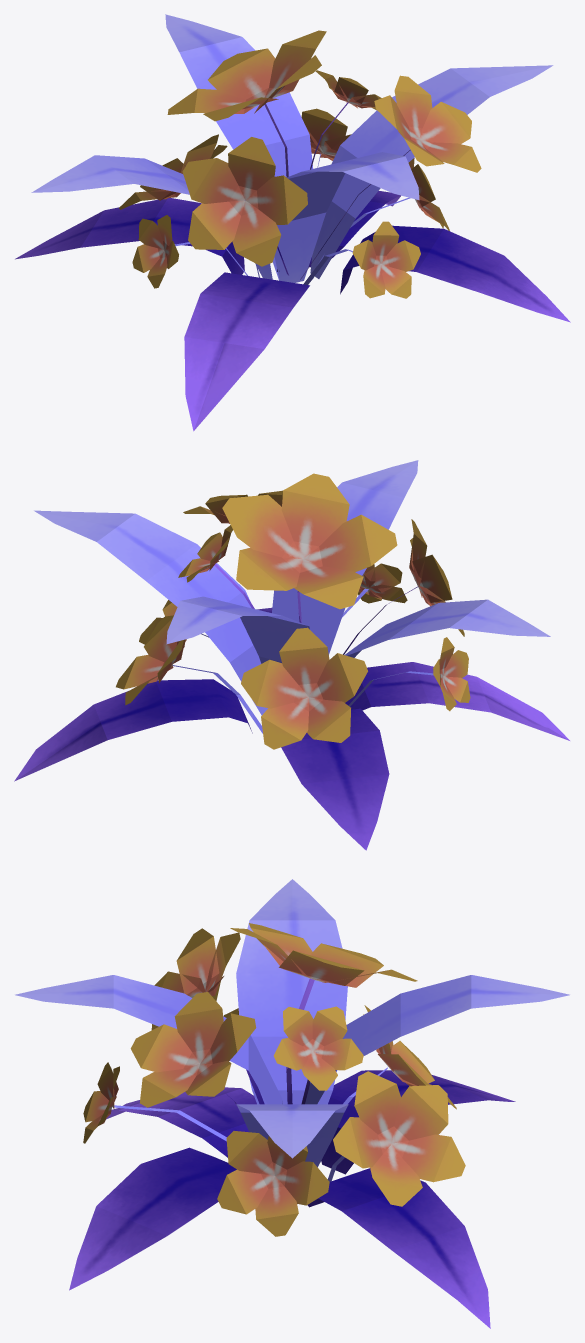
File: flower2.fbx
3 views of the same model, one above another, from view 1: azimuth 30°, elevation 25°; view 2: azimuth 150°, elevation 25°; view 3: azimuth 270°, elevation 25° (orthographic). The views are drawn at different scales.
Visible parts, largest first — view 1: Cube.001.frozen, Cube.frozen, Cube.002.frozen, Cube.003.frozen, Cube.005.frozen, Cube.006.frozen, Cube.007.frozen, Cube.010.frozen, Cube.012.frozen, Cube.008.frozen, Cube.004.frozen, Cube.009.frozen (+1 smaller); view 2: Cube.006.frozen, Cube.frozen, Cube.003.frozen, Cube.004.frozen, Cube.001.frozen, Cube.002.frozen, Cube.008.frozen, Cube.005.frozen, Cube.012.frozen, Cube.010.frozen, Cube.009.frozen, Cube.007.frozen; view 3: Cube.frozen, Cube.003.frozen, Cube.002.frozen, Cube.001.frozen, Cube.008.frozen, Cube.007.frozen, Cube.011.frozen, Cube.009.frozen, Cube.006.frozen, Cube.005.frozen, Cube.004.frozen, Cube.010.frozen.
Part boxes in pixels (left/top/right/bottom): Cube.001.frozen: left=165, top=14, right=419, bottom=282; Cube.frozen: left=31, top=65, right=553, bottom=279; Cube.002.frozen: left=15, top=198, right=570, bottom=322; Cube.003.frozen: left=184, top=191, right=400, bottom=431; Cube.005.frozen: left=182, top=137, right=307, bottom=266; Cube.006.frozen: left=167, top=30, right=326, bottom=121; Cube.007.frozen: left=374, top=75, right=481, bottom=172; Cube.010.frozen: left=352, top=221, right=420, bottom=298; Cube.012.frozen: left=132, top=215, right=178, bottom=288; Cube.008.frozen: left=301, top=108, right=351, bottom=160; Cube.004.frozen: left=119, top=134, right=227, bottom=209; Cube.009.frozen: left=315, top=70, right=381, bottom=110; Cube.006.frozen: left=222, top=473, right=397, bottom=609; Cube.frozen: left=34, top=510, right=550, bottom=715; Cube.003.frozen: left=14, top=662, right=569, bottom=781; Cube.004.frozen: left=241, top=627, right=367, bottom=749; Cube.001.frozen: left=166, top=460, right=418, bottom=663; Cube.002.frozen: left=257, top=607, right=389, bottom=850; Cube.008.frozen: left=116, top=615, right=186, bottom=705; Cube.005.frozen: left=409, top=519, right=464, bottom=636; Cube.012.frozen: left=433, top=637, right=470, bottom=711; Cube.010.frozen: left=358, top=563, right=407, bottom=603; Cube.009.frozen: left=178, top=525, right=232, bottom=582; Cube.007.frozen: left=183, top=490, right=282, bottom=523; Cube.frozen: left=236, top=879, right=348, bottom=1167; Cube.003.frozen: left=106, top=1087, right=490, bottom=1328; Cube.002.frozen: left=69, top=1070, right=515, bottom=1290; Cube.001.frozen: left=15, top=975, right=569, bottom=1104; Cube.008.frozen: left=333, top=1071, right=465, bottom=1206; Cube.007.frozen: left=130, top=992, right=256, bottom=1107; Cube.011.frozen: left=217, top=1131, right=329, bottom=1236; Cube.009.frozen: left=273, top=1006, right=363, bottom=1090; Cube.006.frozen: left=230, top=923, right=417, bottom=987; Cube.005.frozen: left=151, top=928, right=240, bottom=1029; Cube.004.frozen: left=363, top=1005, right=456, bottom=1109; Cube.010.frozen: left=83, top=1062, right=119, bottom=1143.
Bounding box in the file's own units: 143 × 70.89 × 120.
Materials: 3 (3 with a texture image).
